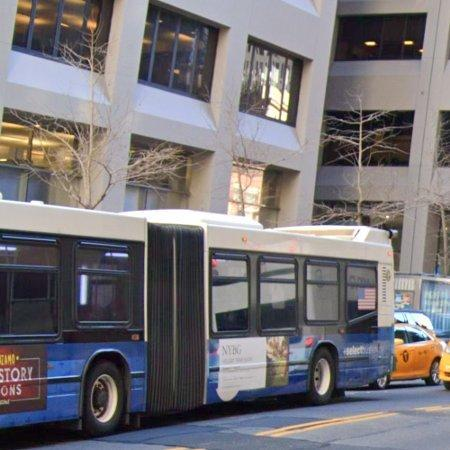buses: (0, 201, 395, 435)
